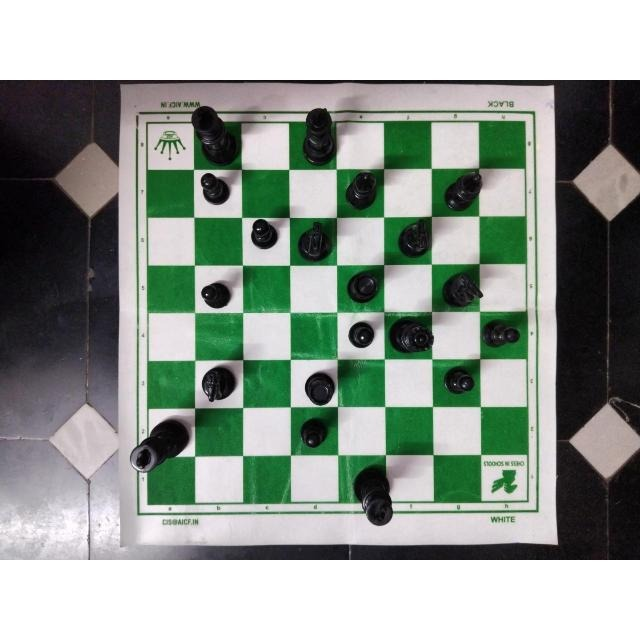black-bishop: (443, 172, 483, 216), (342, 169, 377, 211)
black-king: (129, 418, 191, 473), (189, 104, 242, 168), (352, 462, 397, 530), (302, 106, 340, 169)
black-knight: (294, 222, 336, 264), (441, 271, 483, 311), (199, 367, 238, 405), (397, 218, 431, 260)
black-pawn: (481, 317, 522, 350), (199, 172, 233, 208), (299, 417, 329, 453), (249, 215, 279, 250), (345, 318, 377, 350), (200, 280, 234, 310), (444, 366, 476, 397)
black-queen: (386, 313, 436, 358)
black-rook: (343, 267, 382, 307), (302, 370, 340, 406)
